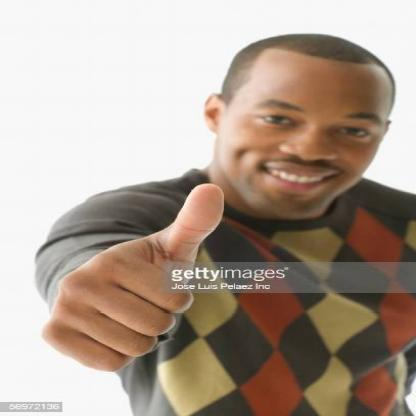Thumbs-Up: (38, 178, 235, 385)
